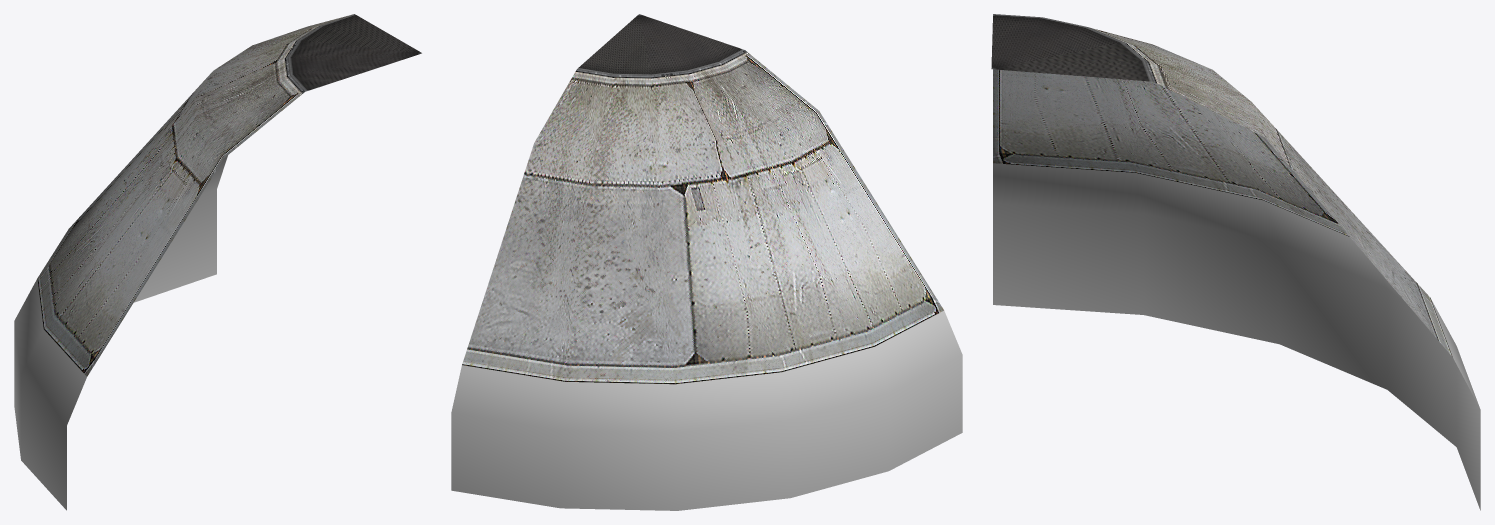
The model's file is Roof_B_Short2mts_13.fbx.
3 renders of one model, left to right at view 1: azimuth 30°, elevation 25°; view 2: azimuth 150°, elevation 25°; view 3: azimuth 270°, elevation 25°, orthographic. The views are drawn at different scales.
Parts seen in each view (by area): view 1: Roof_B_Short2mts_13; view 2: Roof_B_Short2mts_13; view 3: Roof_B_Short2mts_13.
Boxes of the visible parts, x1,y1,x2,y2 form: Roof_B_Short2mts_13: (14, 14, 421, 510); Roof_B_Short2mts_13: (451, 14, 962, 510); Roof_B_Short2mts_13: (991, 14, 1480, 510).
Bounding box in the file's own units: 200 × 200 × 201.
